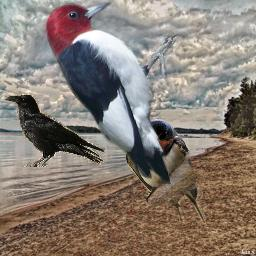Crow: (5, 94, 105, 167)
Swallow: (126, 119, 206, 224)
Woodpecker: (44, 0, 185, 184)
